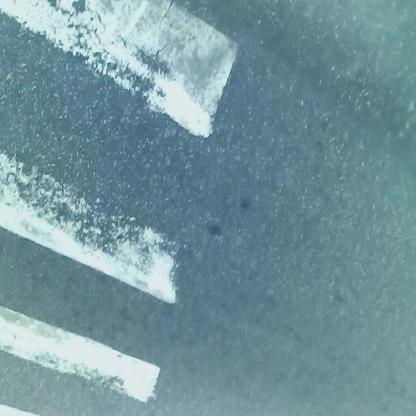crosswalk: (6, 2, 224, 401)
